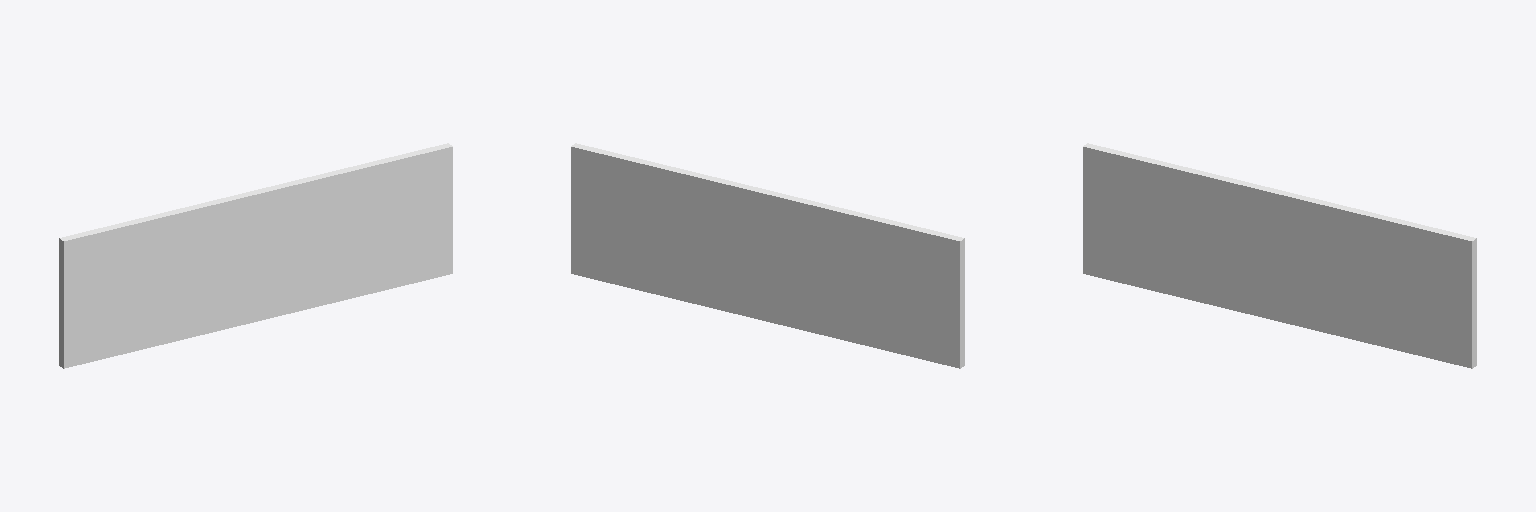
The model's file is TankFactoryUpDoor.obj.
3 renders of one model, left to right at view 1: azimuth 30°, elevation 25°; view 2: azimuth 150°, elevation 25°; view 3: azimuth 330°, elevation 25°, orthographic.
Parts seen in each view (by area): view 1: object 1; view 2: object 1; view 3: object 1.
Part boxes in pixels (bbox=[...]): object 1: bbox=[59, 143, 452, 368]; object 1: bbox=[571, 143, 964, 368]; object 1: bbox=[1083, 143, 1476, 368].
Bounding box in the file's own units: 4.8 × 1.5 × 0.1.